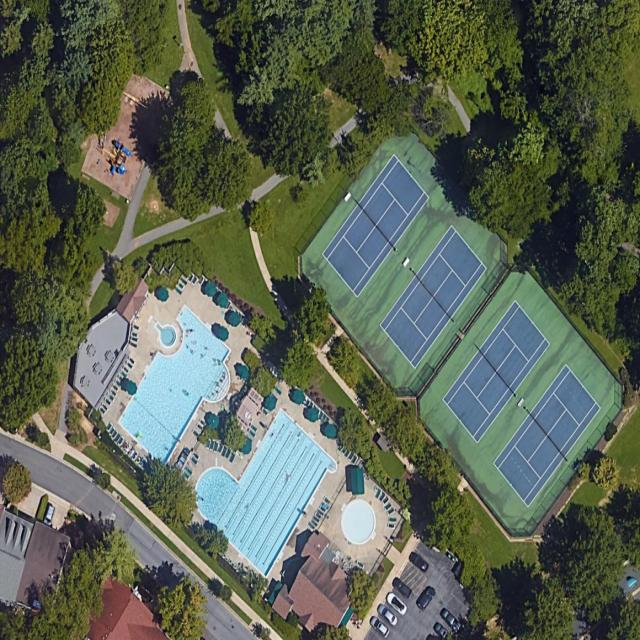small-vehicle: (385, 589, 409, 617), (440, 607, 462, 635), (376, 602, 399, 628), (417, 586, 437, 613), (408, 550, 429, 575), (370, 616, 391, 639), (392, 576, 412, 599), (43, 504, 57, 527)
